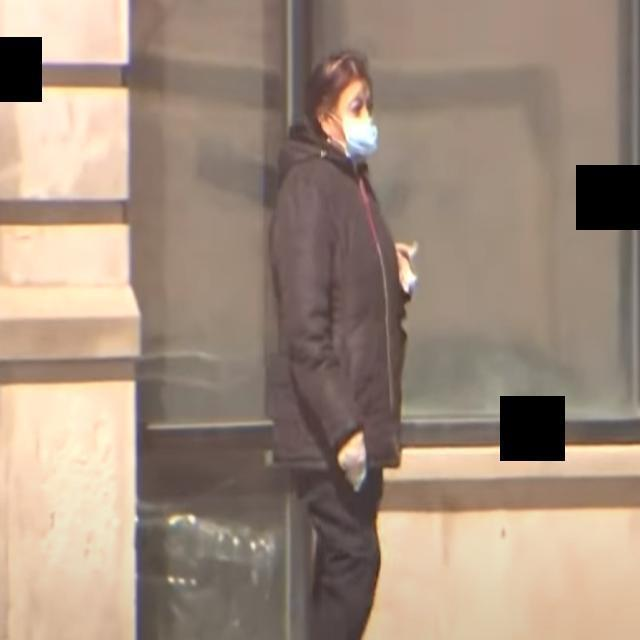hairnet: (319, 105, 383, 175)
no_gloves: (301, 53, 379, 98)
